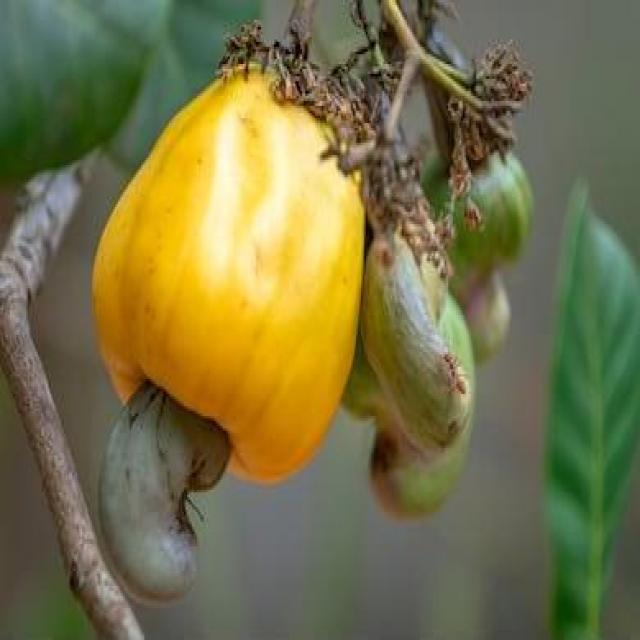cashew: (99, 386, 228, 601), (362, 225, 474, 439)
